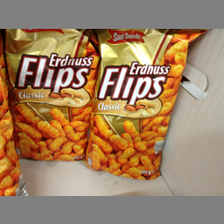chips: (88, 31, 183, 177), (6, 30, 98, 161)
